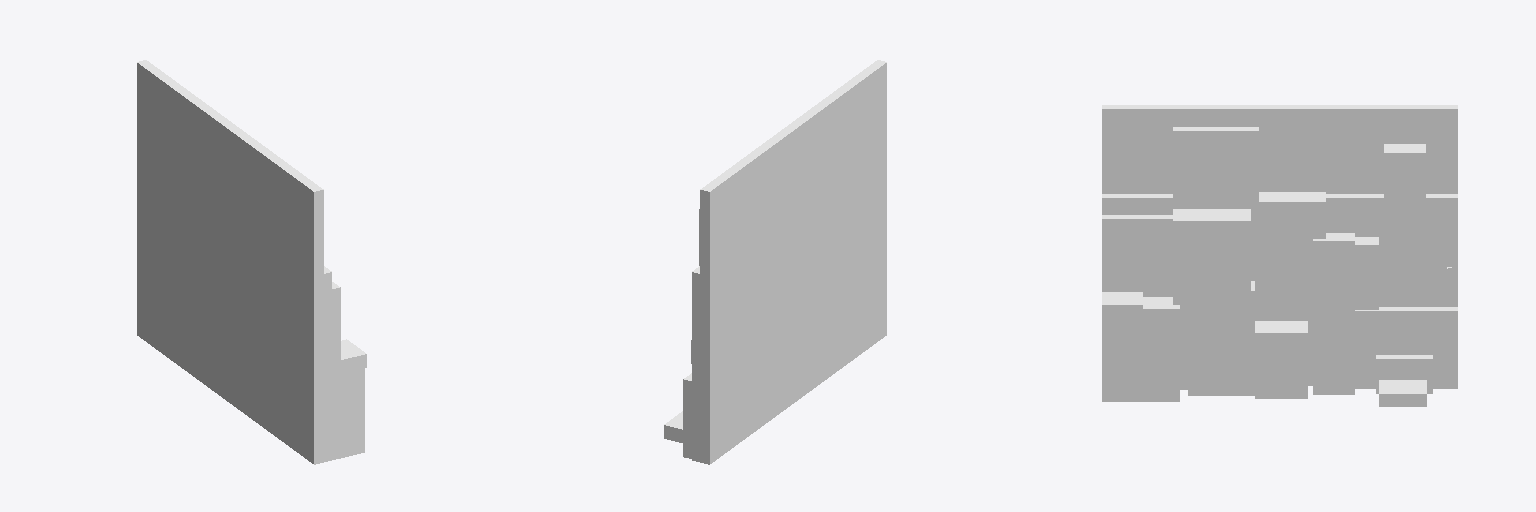
The model's file is Montana.obj.
3 views of the same model, side by side, from view 1: azimuth 30°, elevation 25°; view 2: azimuth 150°, elevation 25°; view 3: azimuth 270°, elevation 25° (orthographic).
Parts seen in each view (by area): view 1: object 1; view 2: object 1; view 3: object 1.
Boxes of the visible parts, x1,y1,x2,y2 form: object 1: [137, 60, 366, 464]; object 1: [664, 60, 886, 464]; object 1: [1102, 105, 1457, 406].
Bounding box in the file's own units: 5.1 × 21.7 × 25.6.